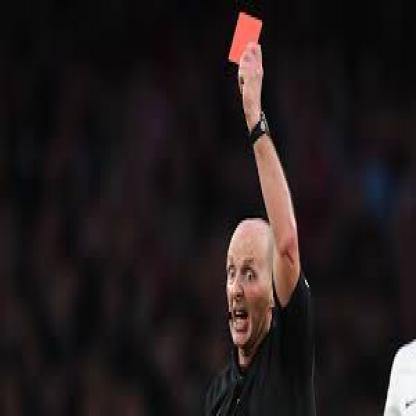foul: (218, 11, 304, 201)
